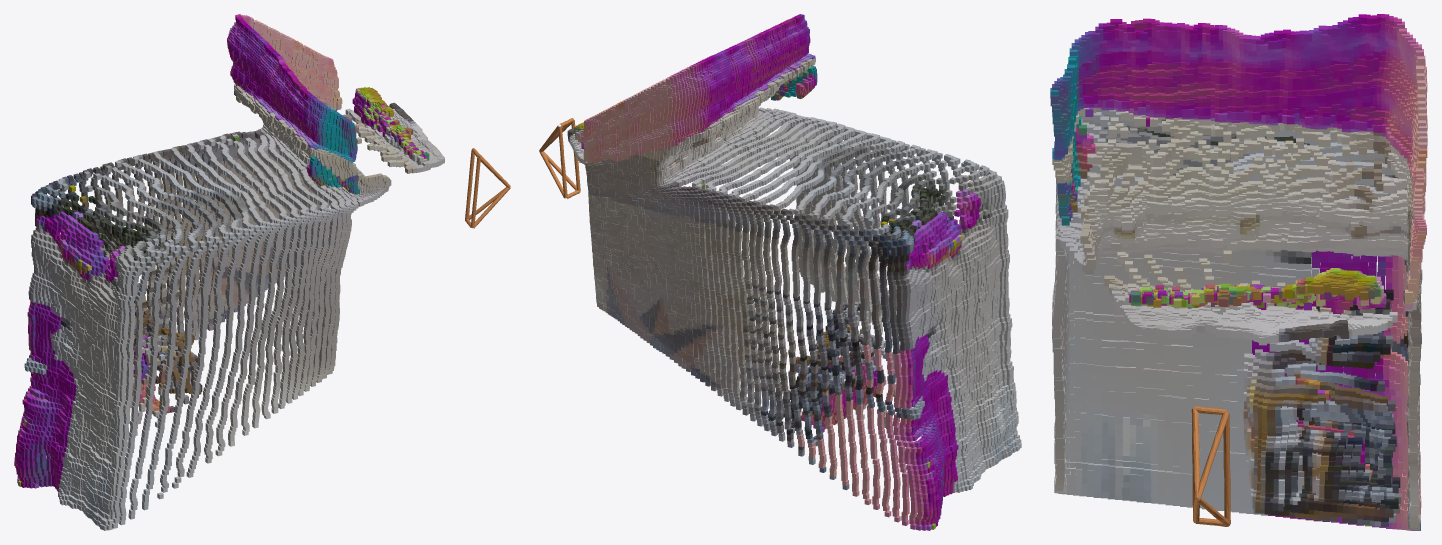
File: pred_1-compressed.glb
3 views of the same model, side by side, from view 1: azimuth 30°, elevation 25°; view 2: azimuth 150°, elevation 25°; view 3: azimuth 270°, elevation 25° (orthographic). The views are drawn at different scales.
Bounding box in the file's own units: 5.36 × 4.74 × 2.34.
